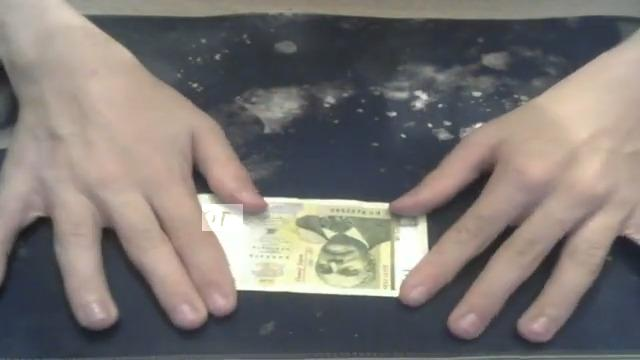10leva: (203, 205, 243, 231)
